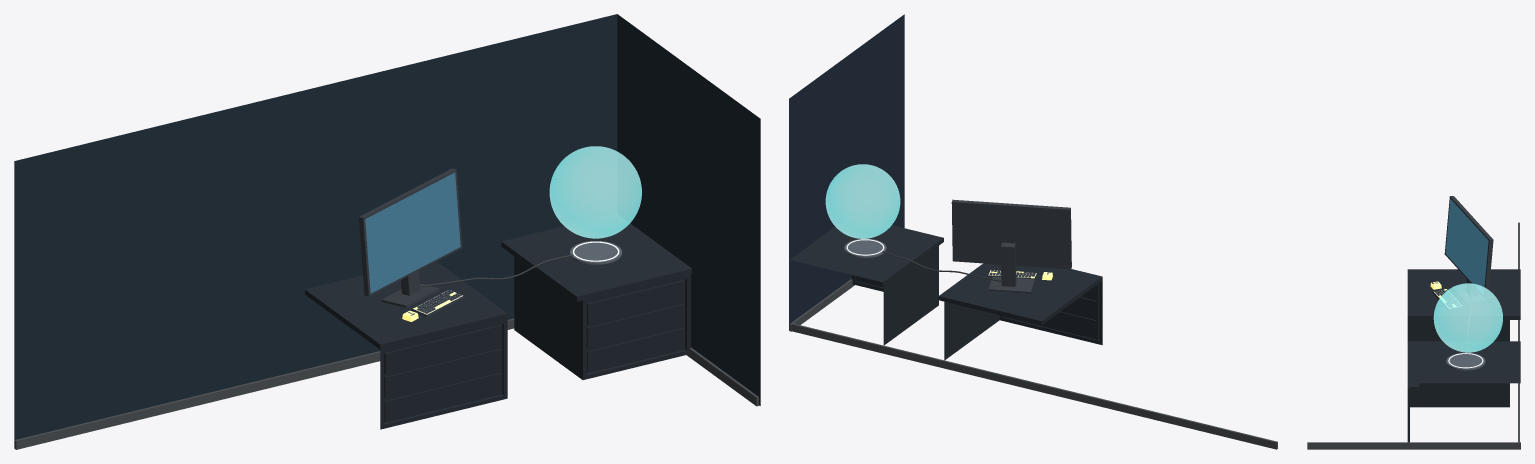
The model's file is studio_room.glb.
The picture shows the model from 3 angles, left to right: view 1: azimuth 30°, elevation 25°; view 2: azimuth 150°, elevation 25°; view 3: azimuth 270°, elevation 25°; orthographic projection. The views are drawn at different scales.
Visible parts, largest first — view 1: wall_Baked, desktop.2_Baked, Desktop_Left_Tabletop, Screen_Observatory_Monitor, Hologram_Globe_Preview, Trim_Baseboard_Back, Monitor COMBINED_Baked, Hologram_Emitter_Platter, Trim_Baseboard_Right; view 2: wall_Baked, desktop.2_Baked, Monitor COMBINED_Baked, Desktop_Left_Tabletop, Hologram_Globe_Preview, Trim_Baseboard_Back, Monitor_Stand_Stem, Hologram_Emitter_Platter, Trim_Baseboard_Right, Monitor_Stand_Base; view 3: desktop.2_Baked, Desktop_Left_Tabletop, Hologram_Globe_Preview, Screen_Observatory_Monitor, Trim_Baseboard_Right, Monitor COMBINED_Baked, Hologram_Emitter_Platter, Desk_Mechanical_Keyboard, Monitor_Stand_Base, Trim_Baseboard_Back.
Part boxes in pixels (x1,y1,x2,y2): wall_Baked: [14, 14, 760, 448]; desktop.2_Baked: [380, 214, 691, 429]; Desktop_Left_Tabletop: [305, 261, 507, 349]; Screen_Observatory_Monitor: [365, 172, 460, 293]; Hologram_Globe_Preview: [549, 146, 641, 238]; Trim_Baseboard_Back: [14, 318, 514, 449]; Monitor COMBINED_Baked: [358, 168, 462, 296]; Hologram_Emitter_Platter: [570, 241, 622, 264]; Trim_Baseboard_Right: [686, 347, 758, 406]; wall_Baked: [789, 14, 904, 330]; desktop.2_Baked: [790, 215, 1102, 360]; Monitor COMBINED_Baked: [951, 199, 1071, 269]; Desktop_Left_Tabletop: [938, 263, 1102, 325]; Hologram_Globe_Preview: [825, 164, 900, 238]; Trim_Baseboard_Back: [790, 323, 1277, 449]; Monitor_Stand_Stem: [1001, 242, 1016, 286]; Hologram_Emitter_Platter: [844, 238, 886, 257]; Trim_Baseboard_Right: [789, 279, 854, 331]; Monitor_Stand_Base: [988, 276, 1034, 293]; desktop.2_Baked: [1407, 320, 1520, 442]; Desktop_Left_Tabletop: [1407, 269, 1520, 319]; Hologram_Globe_Preview: [1433, 283, 1502, 352]; Screen_Observatory_Monitor: [1445, 199, 1488, 294]; Trim_Baseboard_Right: [1307, 442, 1520, 449]; Monitor COMBINED_Baked: [1444, 196, 1493, 297]; Hologram_Emitter_Platter: [1446, 352, 1485, 370]; Desk_Mechanical_Keyboard: [1432, 288, 1462, 309]; Monitor_Stand_Base: [1451, 285, 1486, 302]; Trim_Baseboard_Back: [1518, 222, 1519, 449].
Bounding box in the file's own units: 20.02 × 9.13 × 8.24.
